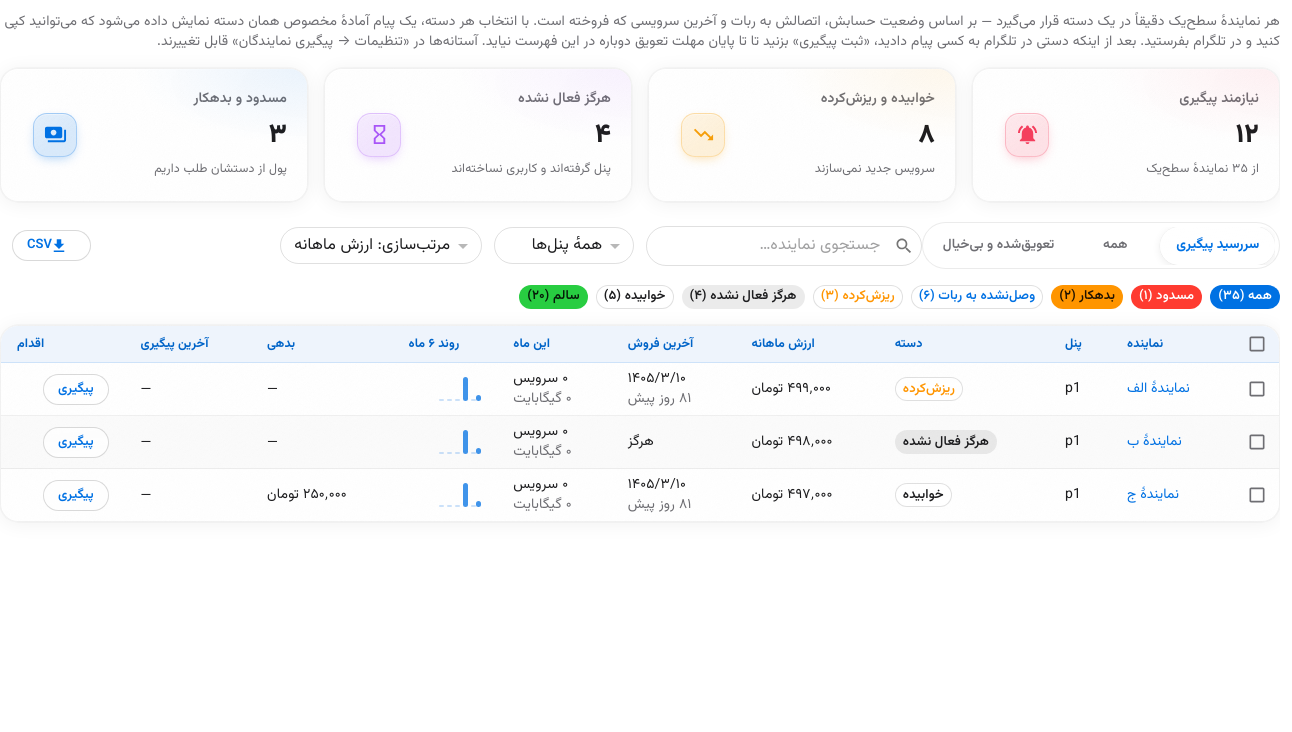
Test: reseller follow-up board › filters to a single segment from the chip row
Click the button "خوابیده (۵)".
click(635, 297)  # box [596, 285, 674, 309]
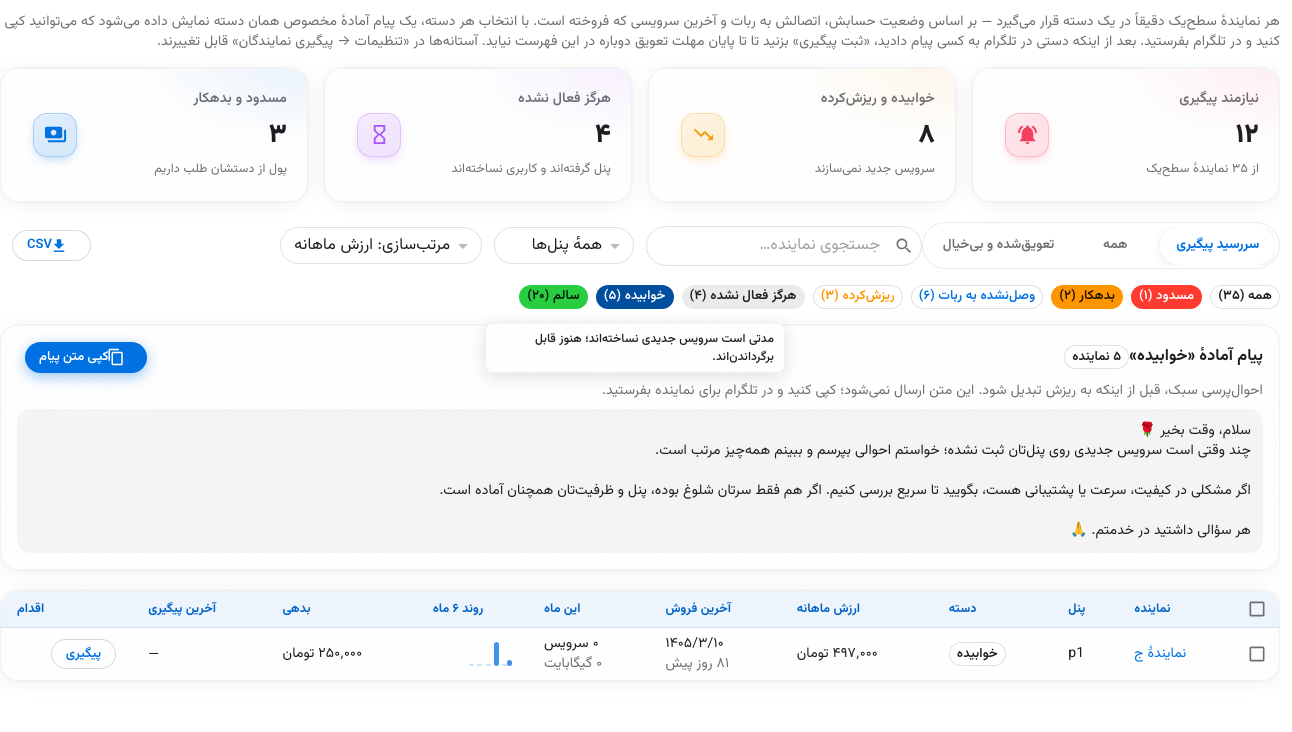
Expected: the button "نمایندهٔ ج" is shown, [1134, 644, 1186, 664]
Expected: the button "نمایندهٔ الف" is gone
